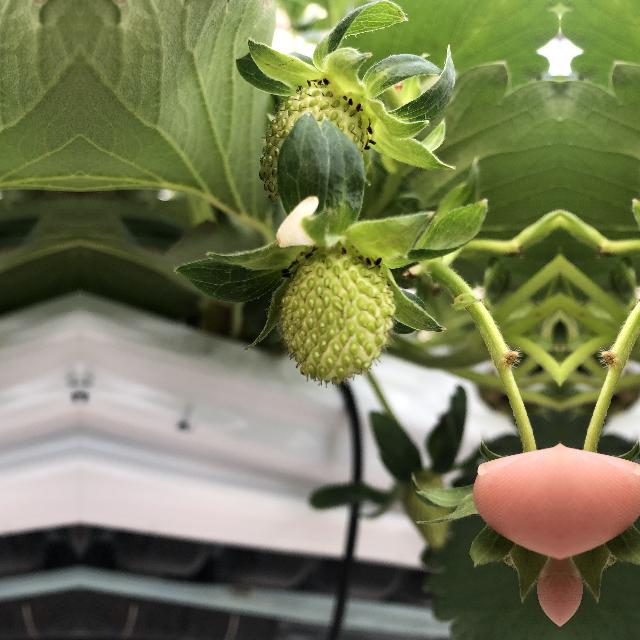Health_25: (272, 238, 404, 392), (258, 80, 382, 218)
